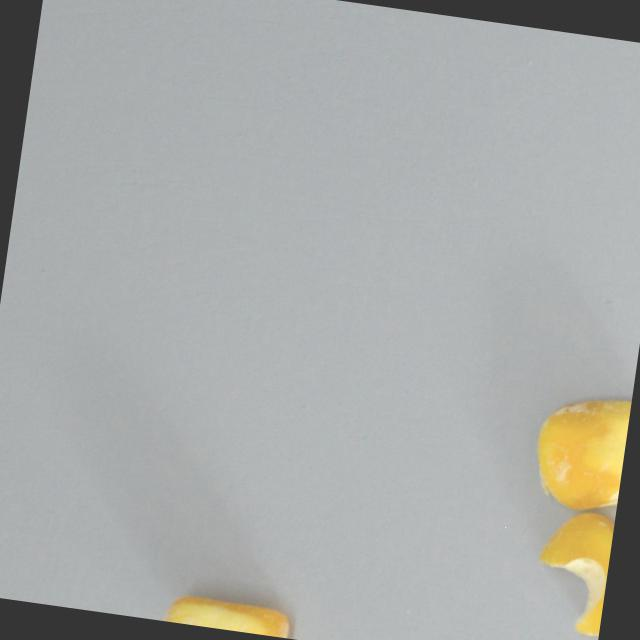no_canjicado: (521, 501, 616, 640)
pelicula: (523, 382, 633, 521), (162, 588, 295, 639)
